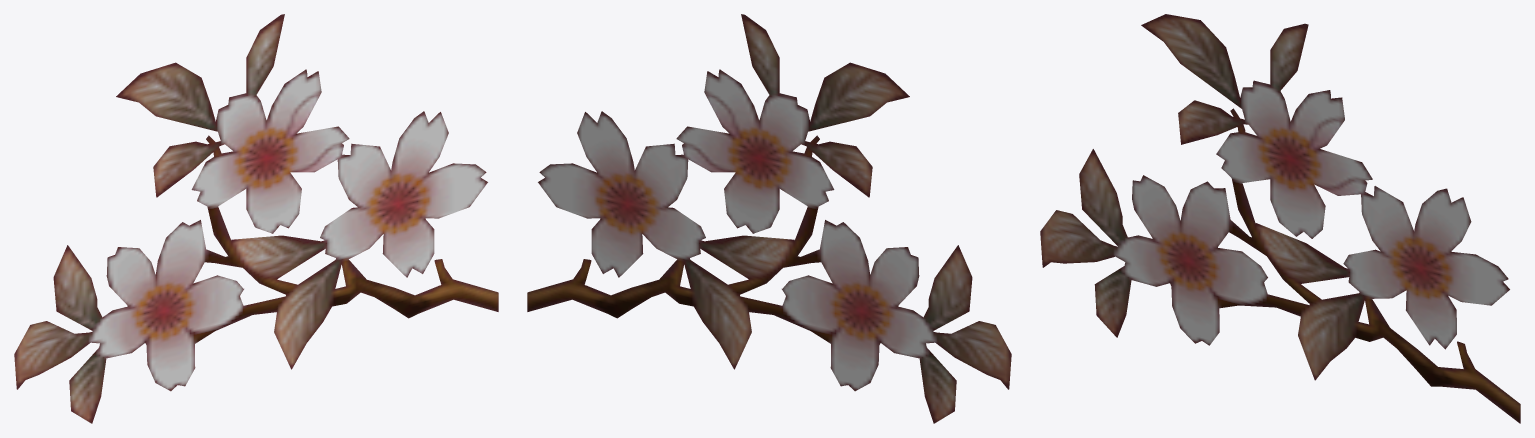
Rendered from SAVE.ICO.obj.
3 views of the same model, side by side, from view 1: azimuth 30°, elevation 25°; view 2: azimuth 150°, elevation 25°; view 3: azimuth 330°, elevation 25° (orthographic).
Size of the model in its own units: 3.56 by 2.55 by 0.00488.
1 material, 1 textured.
